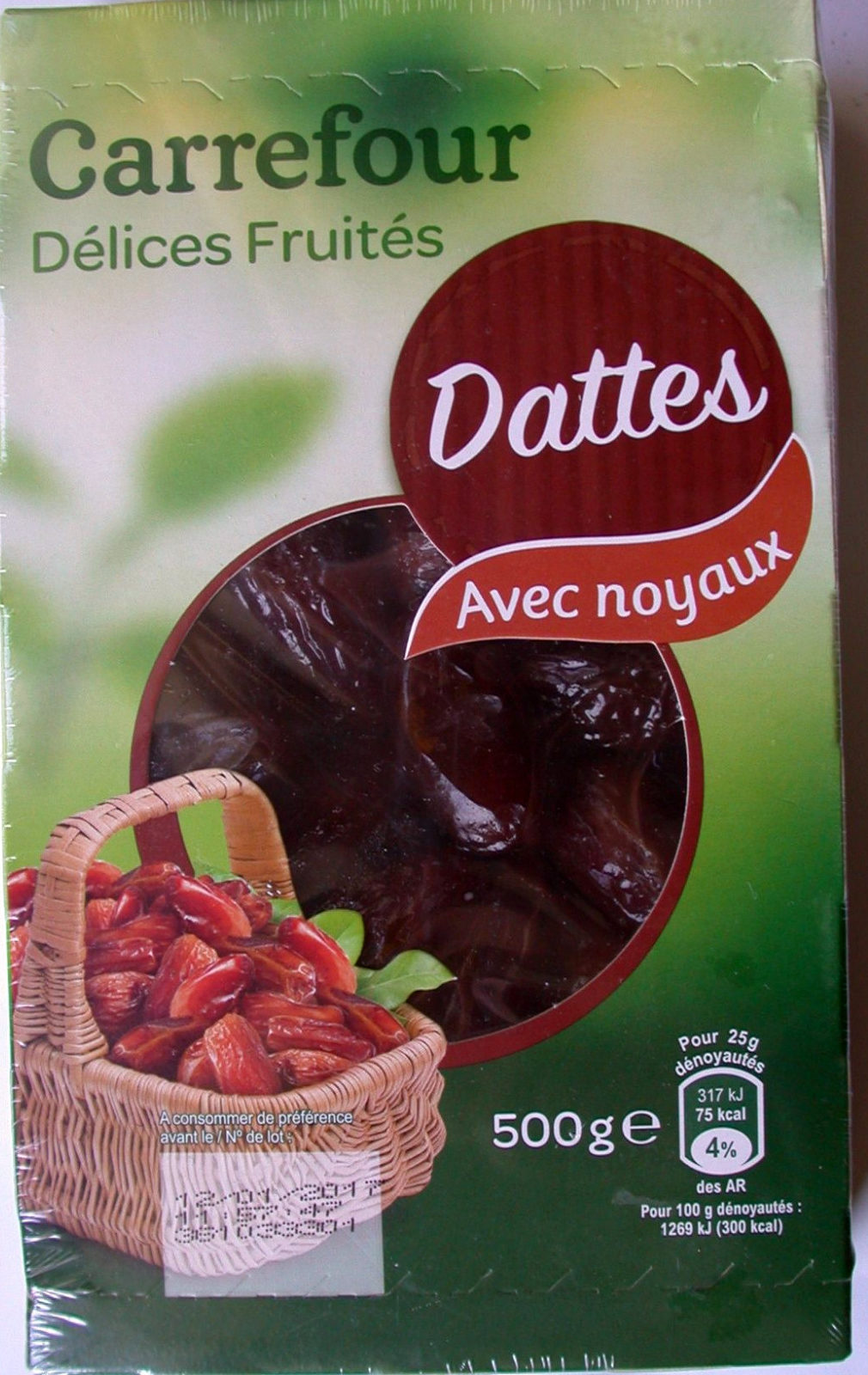Dattes avec noyaux: (43, 69, 825, 1306)
